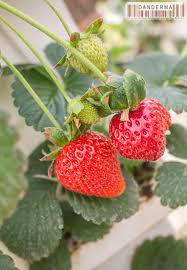ripe: (50, 130, 128, 202), (105, 95, 171, 162)
unripe: (62, 31, 110, 78), (73, 96, 100, 129)
